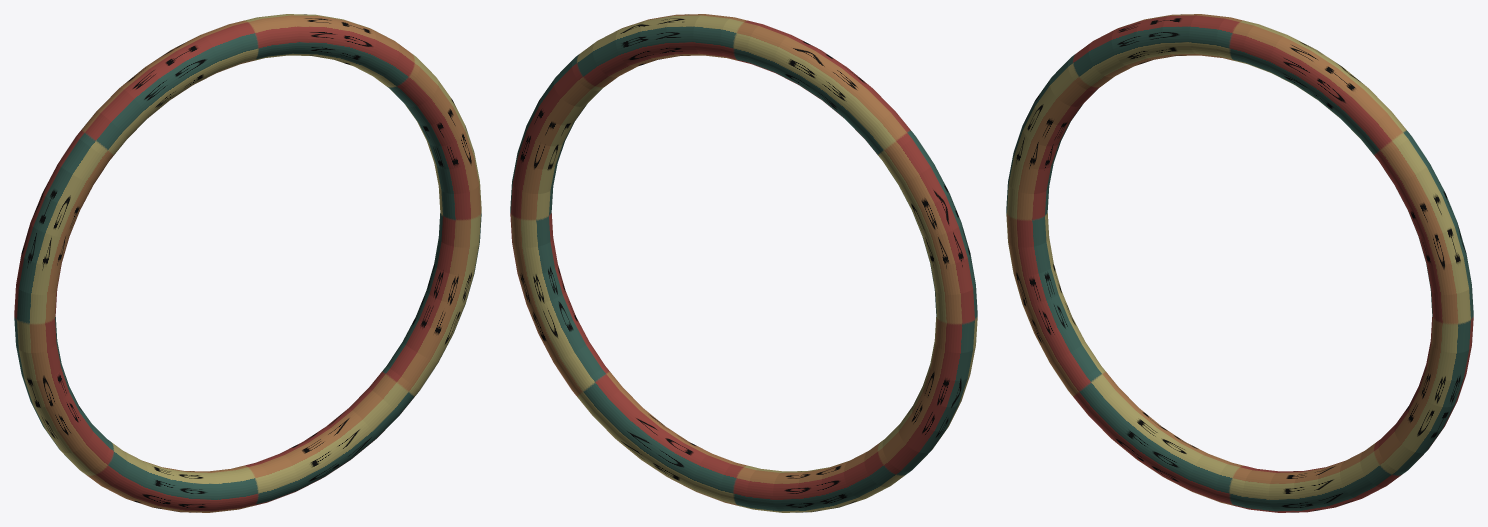
Rendered from texture_torus_R30_r2.glb.
3 renders of one model, left to right at view 1: azimuth 30°, elevation 25°; view 2: azimuth 150°, elevation 25°; view 3: azimuth 330°, elevation 25°, orthographic.
Visible parts, largest first — view 1: world; view 2: world; view 3: world.
Part boxes in pixels (x1,y1,x2,y2): world: (14, 14, 481, 512); world: (510, 14, 977, 512); world: (1006, 14, 1473, 512).
Bounding box in the file's own units: 32.53 × 32.47 × 2.53.
1 material, 1 textured.
